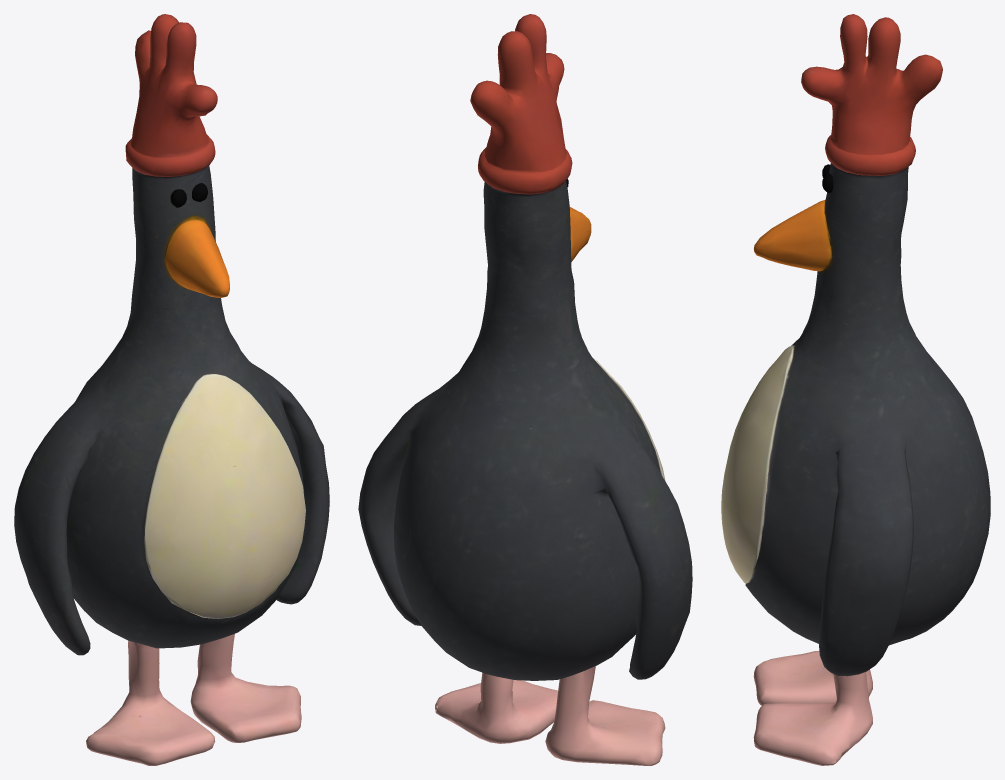
File: Penguin.glb
3 views of the same model, side by side, from view 1: azimuth 30°, elevation 25°; view 2: azimuth 150°, elevation 25°; view 3: azimuth 270°, elevation 25° (orthographic). The views are drawn at different scales.
Visible parts, largest first — view 1: geometry_0; view 2: geometry_0; view 3: geometry_0.
Boxes of the visible parts, bbox=[...] form: geometry_0: bbox=[14, 14, 329, 765]; geometry_0: bbox=[358, 14, 692, 765]; geometry_0: bbox=[721, 14, 990, 765].
Size of the model in its own units: 0.4229 by 0.9507 by 0.3311.
1 material, 1 textured.
